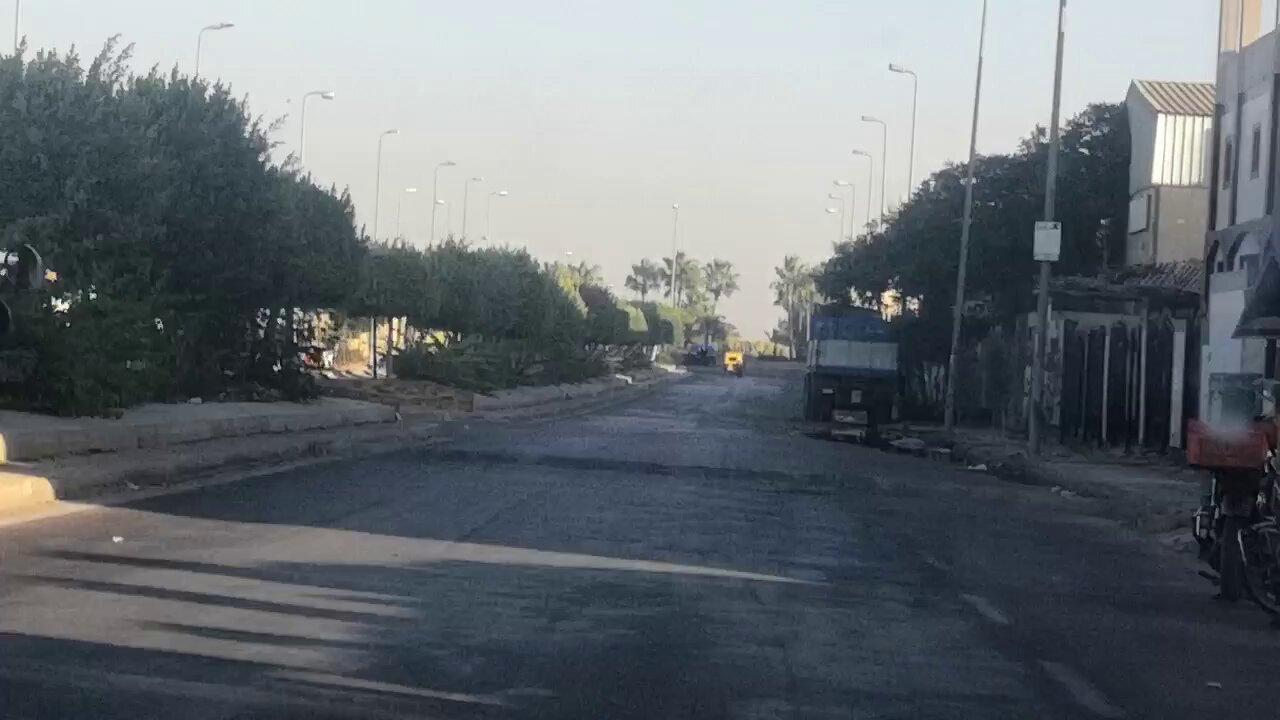Bump: (378, 452, 1080, 513)
